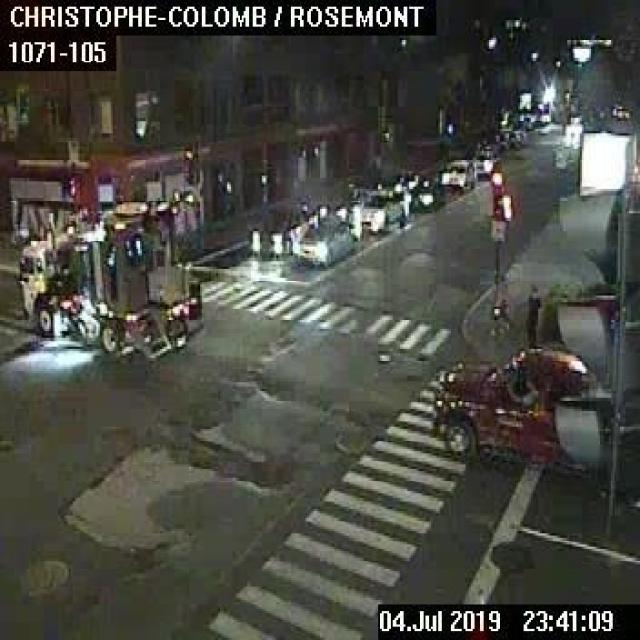pedestrian: (525, 282, 540, 346)
vehicle: (16, 187, 202, 357), (431, 348, 591, 477), (250, 204, 310, 256), (292, 214, 350, 265), (357, 188, 404, 230), (404, 180, 442, 212), (440, 158, 474, 190), (376, 172, 417, 194), (472, 146, 498, 175)
